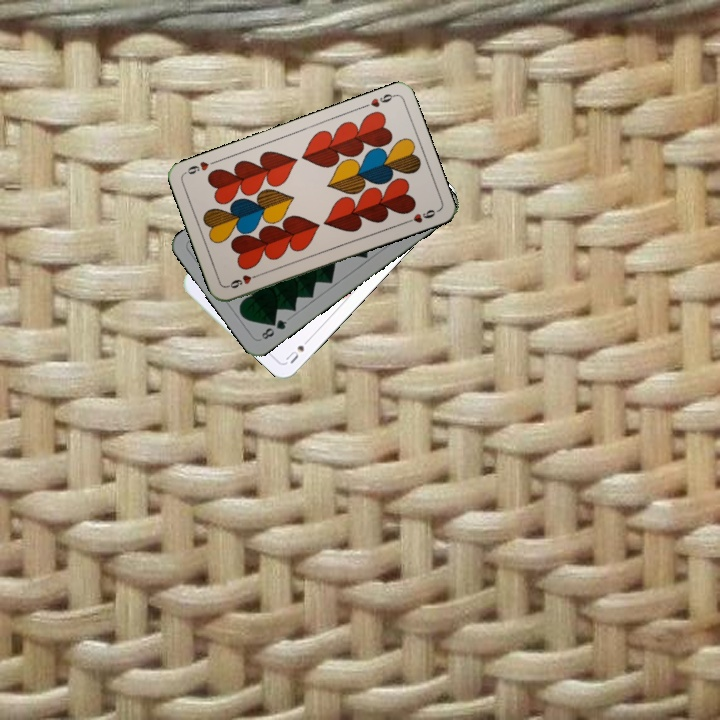G8: (257, 315, 290, 342)
H9: (223, 269, 262, 291), (358, 90, 398, 111)
SU: (281, 332, 314, 366)
